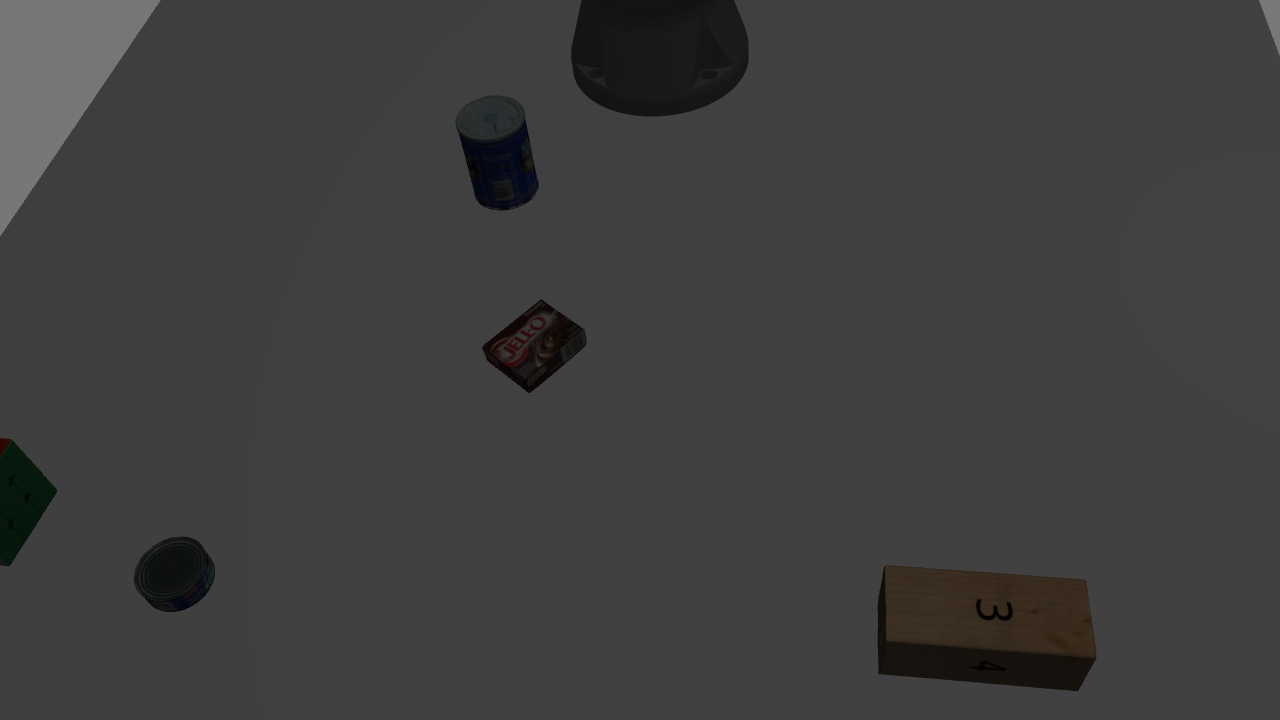master_chef_can: (453, 87, 547, 218)
pudding_box: (478, 291, 587, 395)
rubiks_cube: (3, 424, 60, 562)
tuna_fish_can: (129, 539, 215, 609)
wood_block: (866, 557, 1101, 694)
